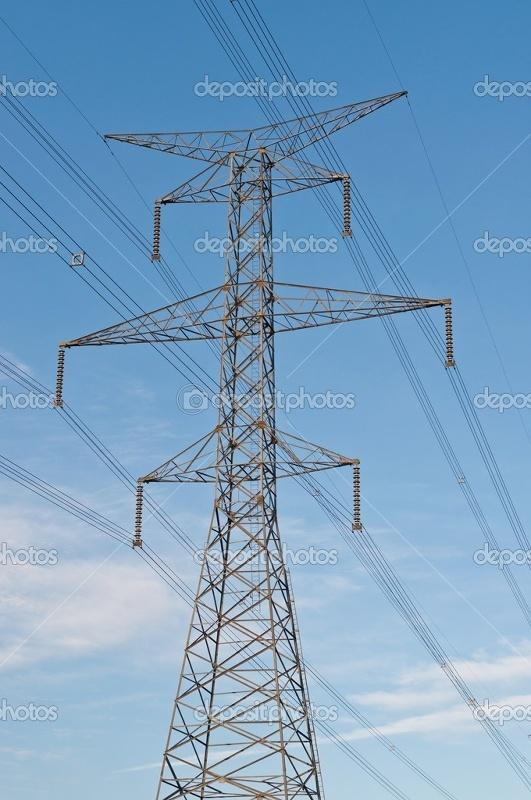power_tower: (45, 100, 481, 735)
